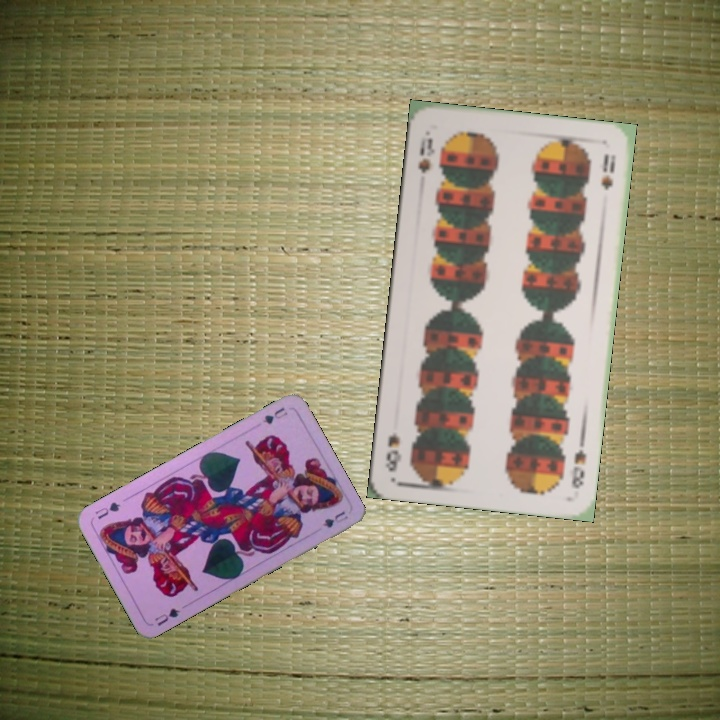GU: (151, 604, 182, 628), (259, 403, 290, 427)
S8: (565, 446, 588, 491), (414, 134, 438, 175)
